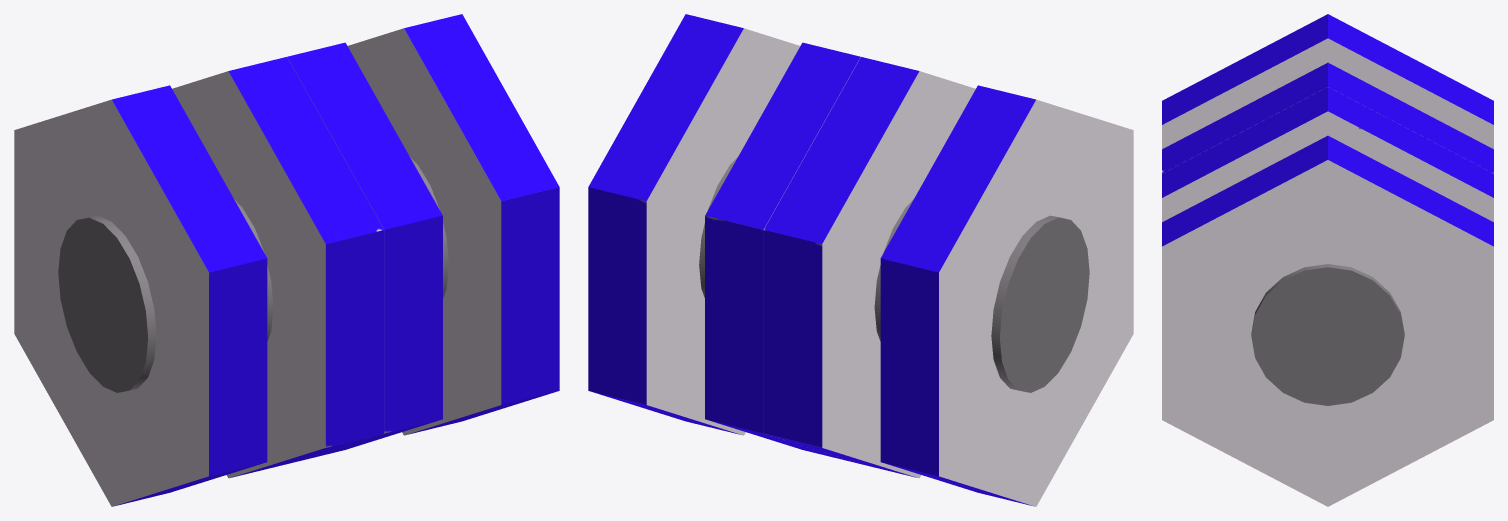
Rendered from BoltonAndNuttonDead.fbx.
3 renders of one model, left to right at view 1: azimuth 30°, elevation 25°; view 2: azimuth 150°, elevation 25°; view 3: azimuth 270°, elevation 25°, orthographic. The views are drawn at different scales.
Parts seen in each view (by area): view 1: Bolton_and_Nutton:polySurface1, Bolton_and_Nutton:polySurface7, Bolton_and_Nutton:polySurface3, Bolton_and_Nutton:polySurface6, Bolton_and_Nutton:polySurface2; view 2: Bolton_and_Nutton:polySurface1, Bolton_and_Nutton:polySurface7, Bolton_and_Nutton:polySurface3, Bolton_and_Nutton:polySurface6, Bolton_and_Nutton:polySurface2; view 3: Bolton_and_Nutton:polySurface3, Bolton_and_Nutton:polySurface4, Bolton_and_Nutton:polySurface1, Bolton_and_Nutton:polySurface6, Bolton_and_Nutton:polySurface7.
Boxes of the visible parts, <box> form: Bolton_and_Nutton:polySurface1: <box>14,85,267,506</box>; Bolton_and_Nutton:polySurface7: <box>172,57,384,478</box>; Bolton_and_Nutton:polySurface3: <box>347,14,559,435</box>; Bolton_and_Nutton:polySurface6: <box>287,42,442,463</box>; Bolton_and_Nutton:polySurface2: <box>58,199,273,392</box>; Bolton_and_Nutton:polySurface1: <box>880,85,1133,506</box>; Bolton_and_Nutton:polySurface7: <box>763,57,975,478</box>; Bolton_and_Nutton:polySurface3: <box>588,14,800,435</box>; Bolton_and_Nutton:polySurface6: <box>705,42,860,463</box>; Bolton_and_Nutton:polySurface2: <box>874,199,1089,392</box>; Bolton_and_Nutton:polySurface3: <box>1162,135,1493,506</box>; Bolton_and_Nutton:polySurface4: <box>1251,264,1404,405</box>; Bolton_and_Nutton:polySurface1: <box>1162,14,1493,149</box>; Bolton_and_Nutton:polySurface6: <box>1162,87,1493,221</box>; Bolton_and_Nutton:polySurface7: <box>1162,62,1493,173</box>.
Bounding box in the file's own units: 9.42 × 10 × 8.66.
